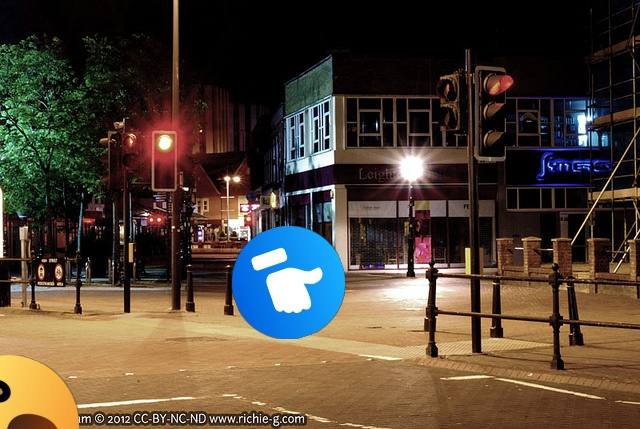like: (232, 226, 345, 339)
wow: (0, 355, 79, 429)
